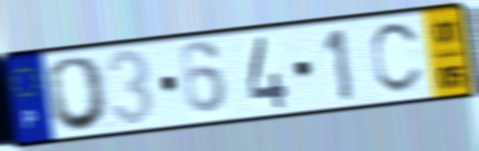1: (322, 26, 355, 103)
3: (106, 46, 158, 130)
4: (246, 34, 289, 112)
6: (180, 37, 229, 124)
C: (368, 19, 425, 97)
O: (45, 53, 113, 134)
